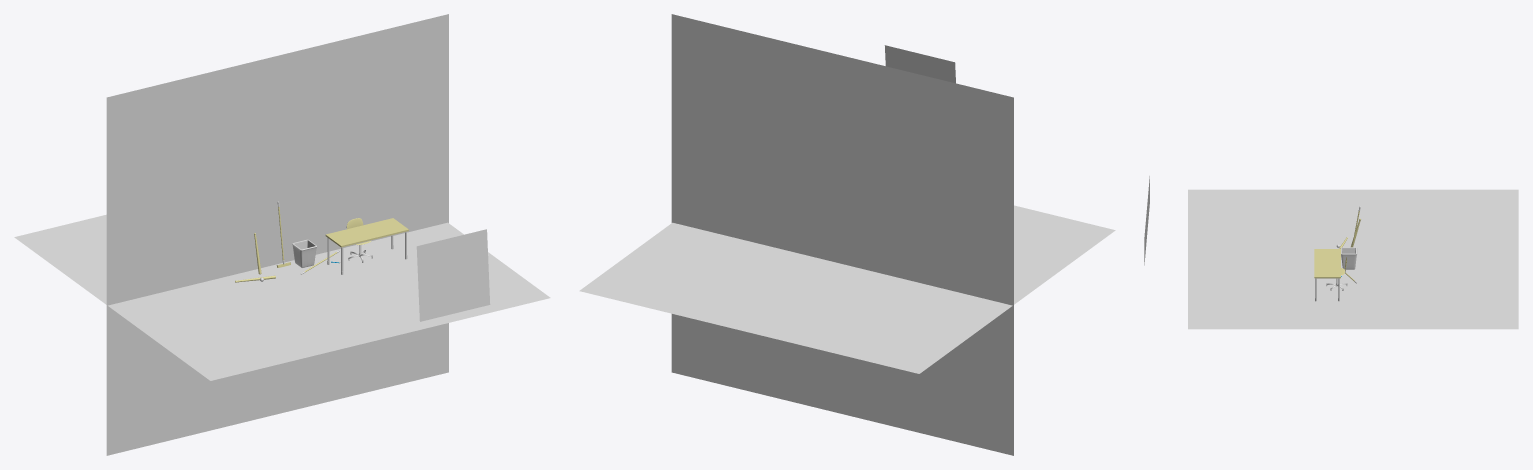
Rendered from uploads_files_245958_kost.fbx.
3 renders of one model, left to right at view 1: azimuth 30°, elevation 25°; view 2: azimuth 150°, elevation 25°; view 3: azimuth 270°, elevation 25°, orthographic. The views are drawn at different scales.
Parts seen in each view (by area): view 1: Plane, Plane.002, Plane.001, Cube.003, Cube.002; view 2: Plane, Plane.002, Plane.001; view 3: Plane.002, Cube.003.
Part boxes in pixels (box(x1,y1,x2,y2)): Plane: box(106, 14, 448, 455); Plane.002: box(14, 214, 550, 380); Plane.001: box(416, 229, 490, 321); Cube.003: box(325, 218, 408, 274); Cube.002: box(292, 239, 316, 267); Plane: box(671, 14, 1013, 455); Plane.002: box(579, 205, 1115, 373); Plane.001: box(884, 45, 955, 83); Plane.002: box(1188, 189, 1518, 329); Cube.003: box(1314, 249, 1340, 301).
Size of the model in its own units: 4691 by 4691 by 5276.
